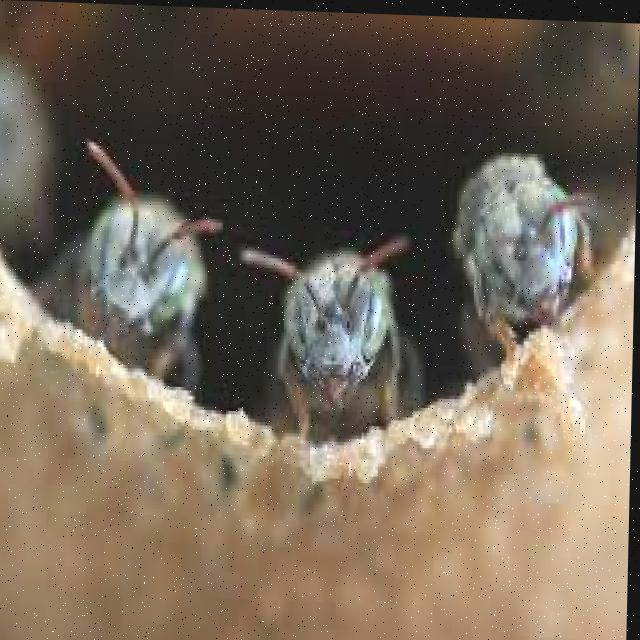Meliponula: (57, 137, 212, 394), (459, 120, 618, 368), (249, 211, 431, 413)
